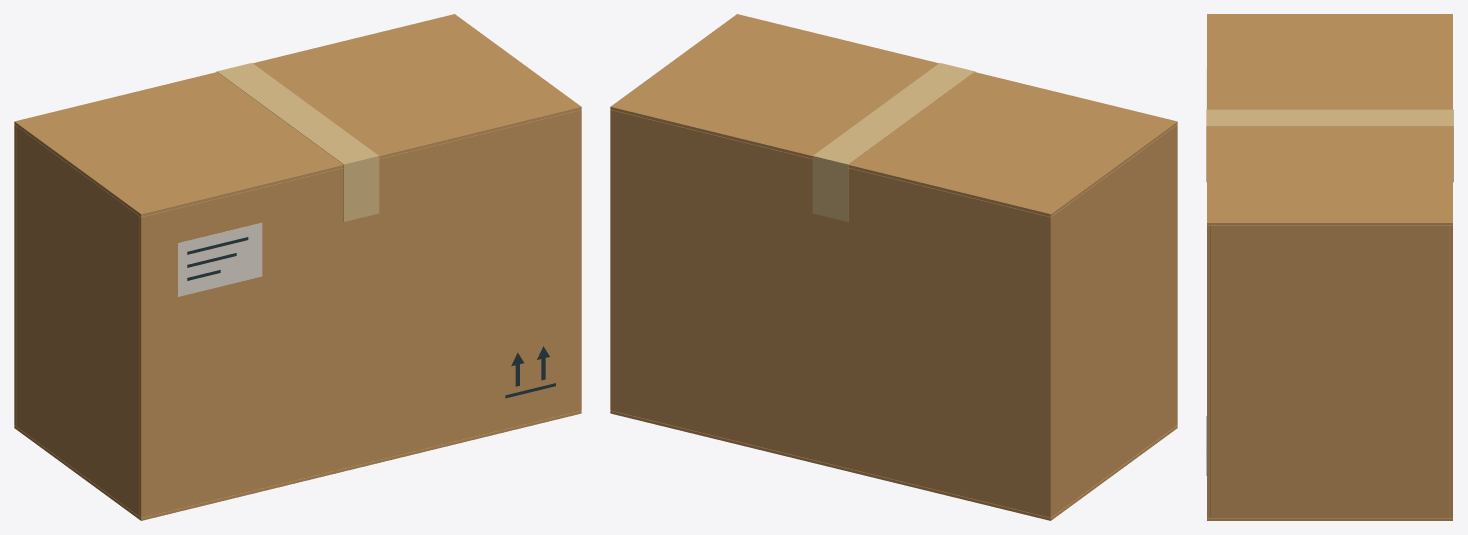
Rendered from standard-carton.glb.
The picture shows the model from 3 angles, left to right: view 1: azimuth 30°, elevation 25°; view 2: azimuth 150°, elevation 25°; view 3: azimuth 270°, elevation 25°; orthographic projection. The views are drawn at different scales.
Parts seen in each view (by area): view 1: standard-carton; view 2: standard-carton; view 3: standard-carton.
Part boxes in pixels (bbox=[...]): standard-carton: bbox=[14, 14, 581, 520]; standard-carton: bbox=[610, 14, 1177, 520]; standard-carton: bbox=[1206, 14, 1453, 520].
Size of the model in its own units: 0.6 by 0.4 by 0.3.
